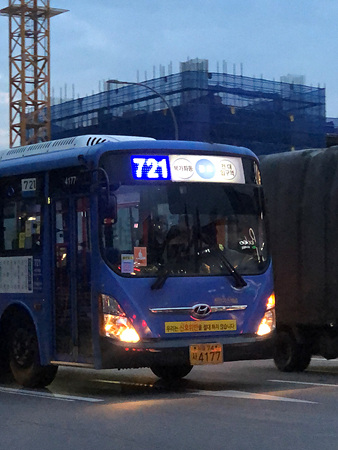bnum: (132, 155, 169, 179)
